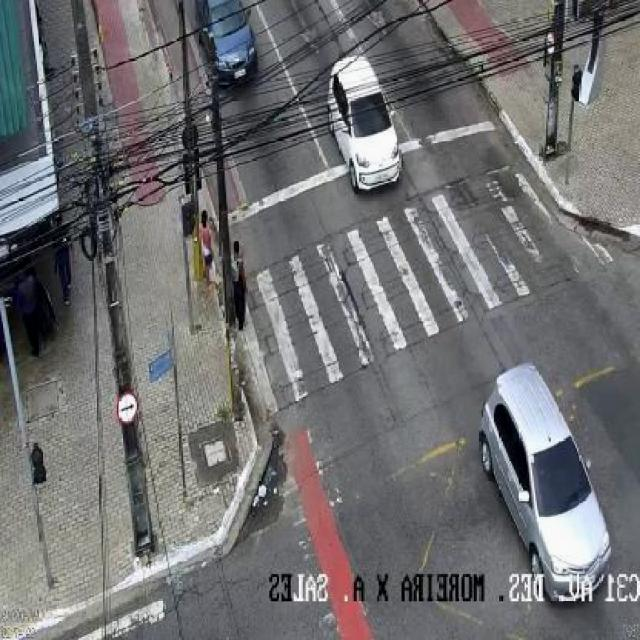Car: (477, 363, 612, 604), (324, 52, 405, 195), (191, 0, 262, 86)
